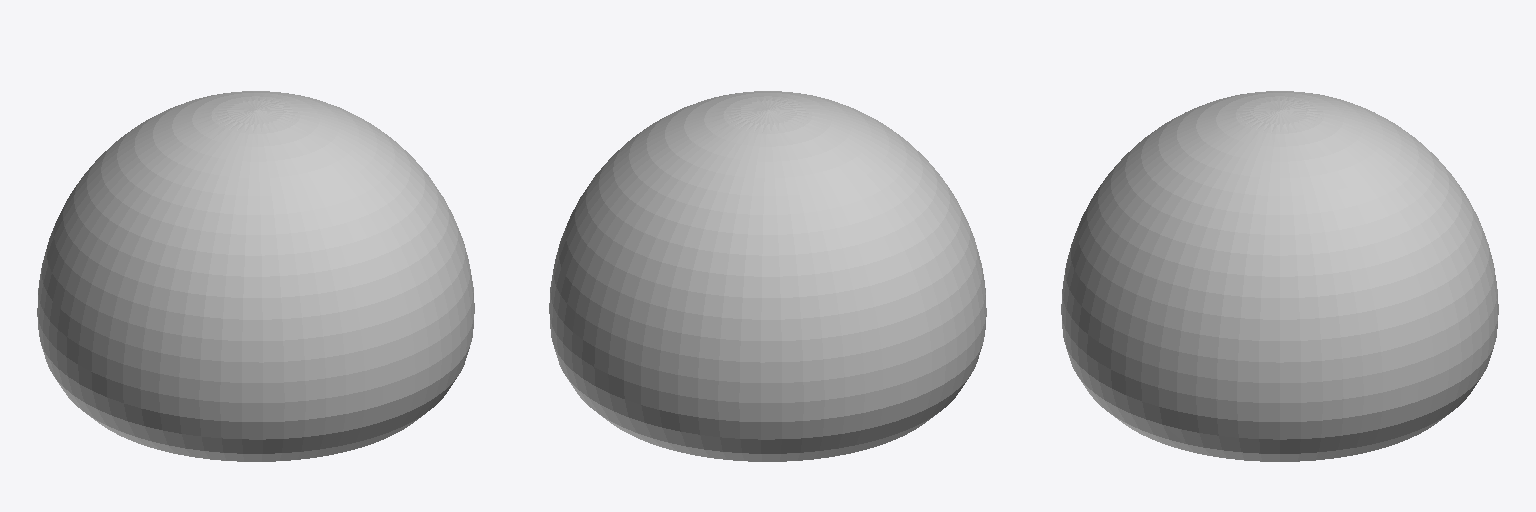
The model's file is Head.obj.
3 views of the same model, side by side, from view 1: azimuth 30°, elevation 25°; view 2: azimuth 150°, elevation 25°; view 3: azimuth 270°, elevation 25° (orthographic).
Parts seen in each view (by area): view 1: Head_Sphere.005; view 2: Head_Sphere.005; view 3: Head_Sphere.005.
Part boxes in pixels (x1,y1,x2,y2): Head_Sphere.005: (37, 91, 474, 461); Head_Sphere.005: (549, 91, 986, 461); Head_Sphere.005: (1061, 91, 1498, 461).
Size of the model in its own units: 0.6919 by 0.508 by 0.6919.